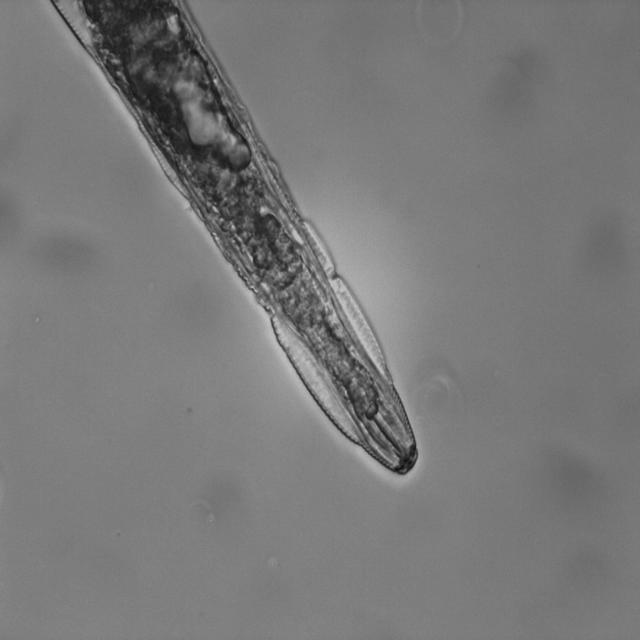Pratylenchus: (55, 0, 431, 485)
